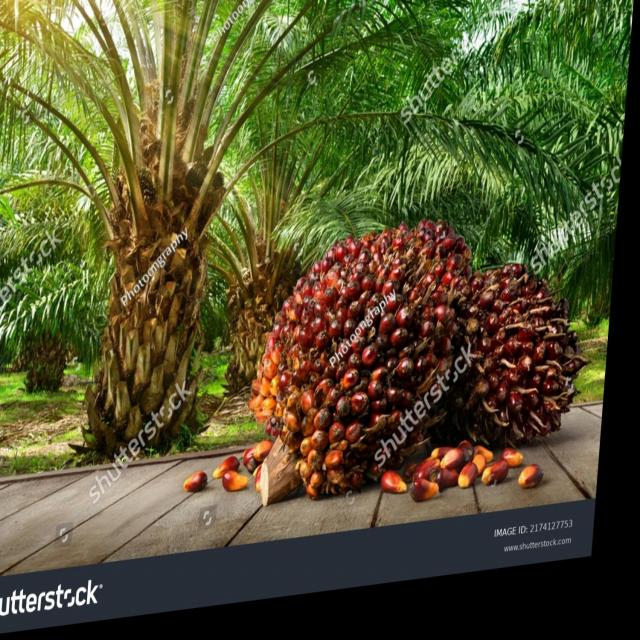Ripefruit: (244, 222, 480, 525), (466, 266, 602, 478)
